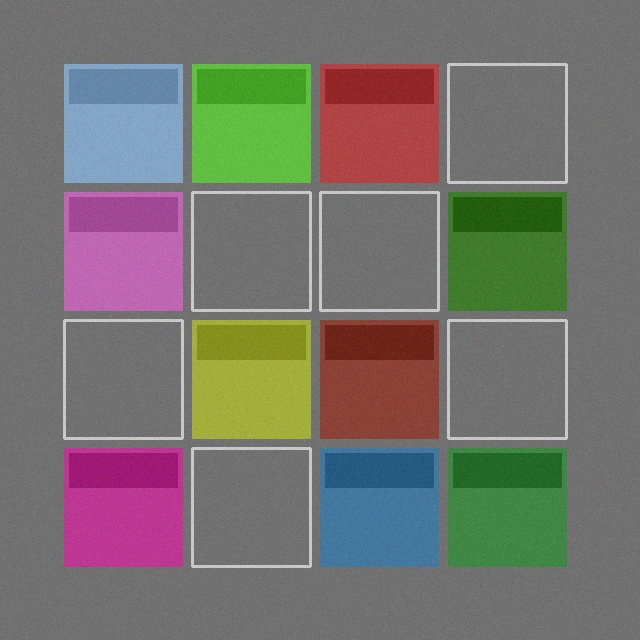space-empty: (448, 64, 566, 182), (192, 192, 310, 310), (320, 192, 438, 310), (64, 320, 182, 438), (448, 320, 566, 438), (192, 448, 310, 566)
space-occupied: (64, 64, 182, 182), (192, 64, 310, 182), (320, 64, 438, 182), (64, 192, 182, 310), (448, 192, 566, 310), (192, 320, 310, 438), (320, 320, 438, 438), (64, 448, 182, 566), (320, 448, 438, 566), (448, 448, 566, 566)
